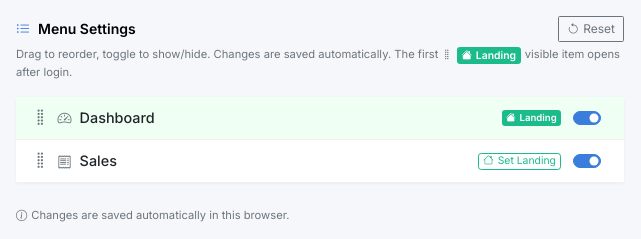
Test case: SidebarSettings smoke test › toggling a visibility switch flips its checked state
Step 1. Click the switch named "Hide from sidebar" in the row of "Dashboard" → (587,118), box [573,111,601,125]
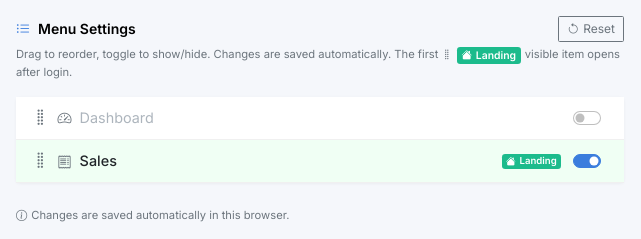
Expected: the switch named "Show in sidebar" is not checked, [573,111,601,125]
